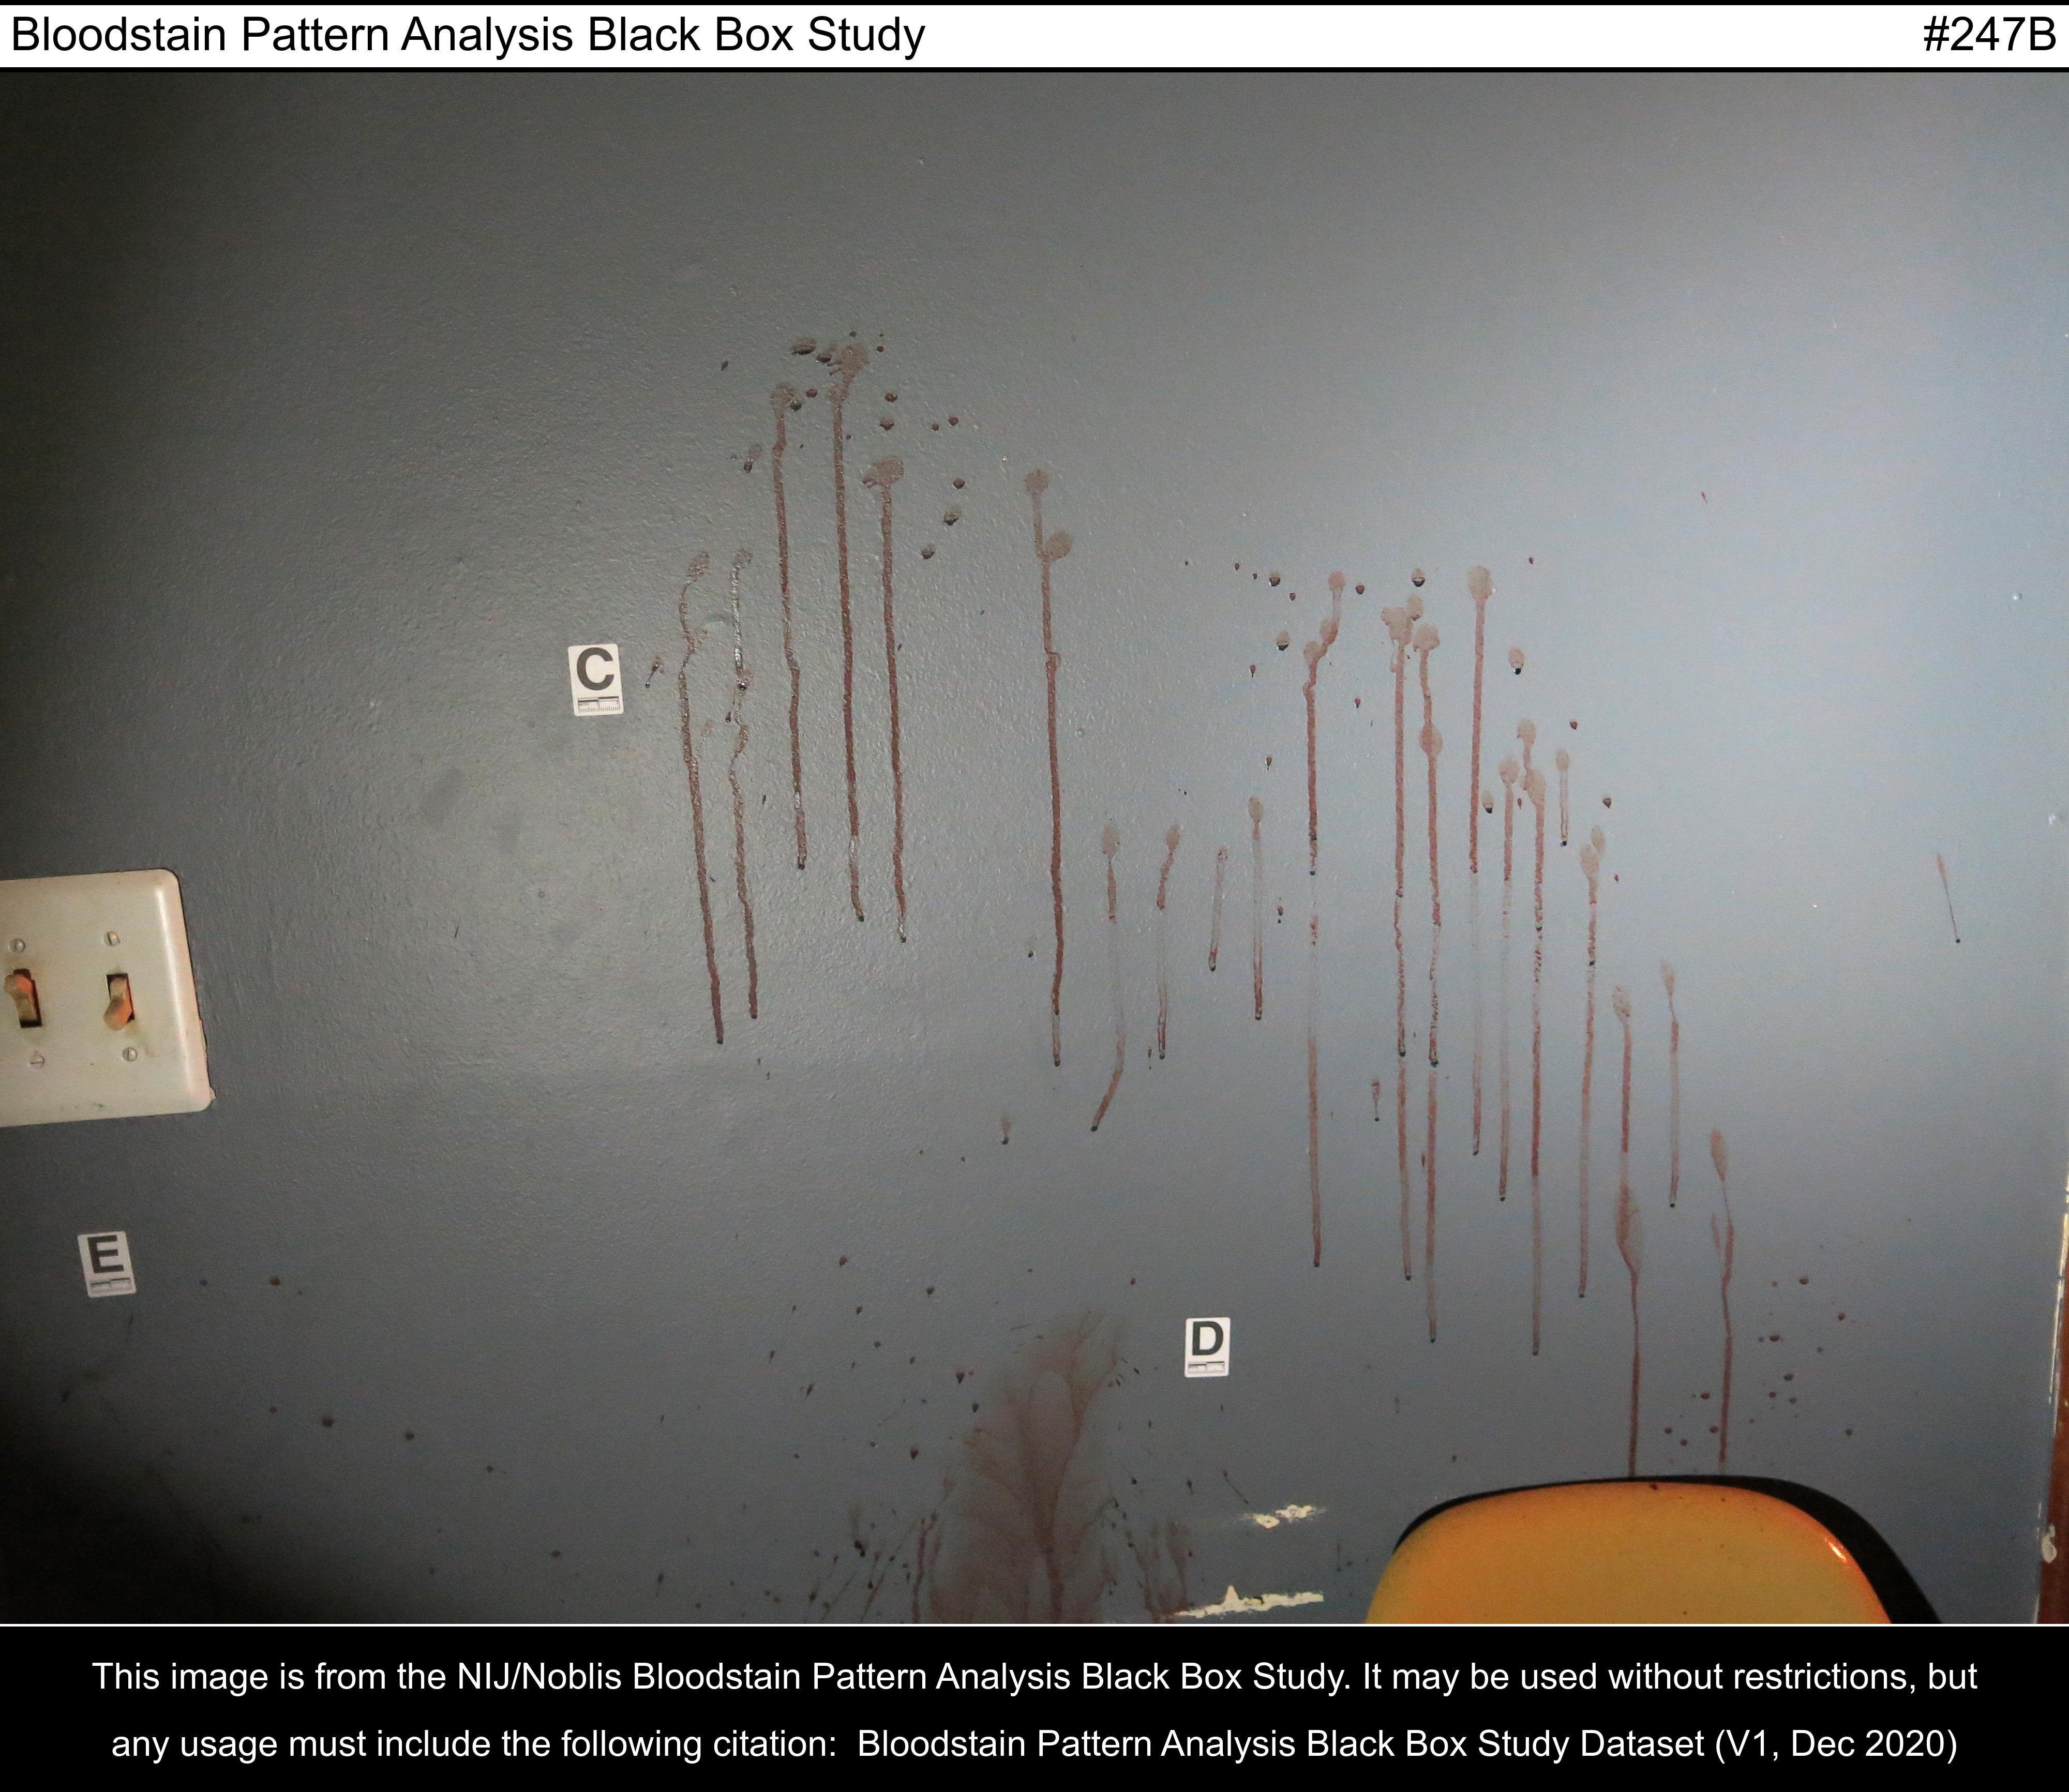Passive: (628, 297, 1925, 1627)
